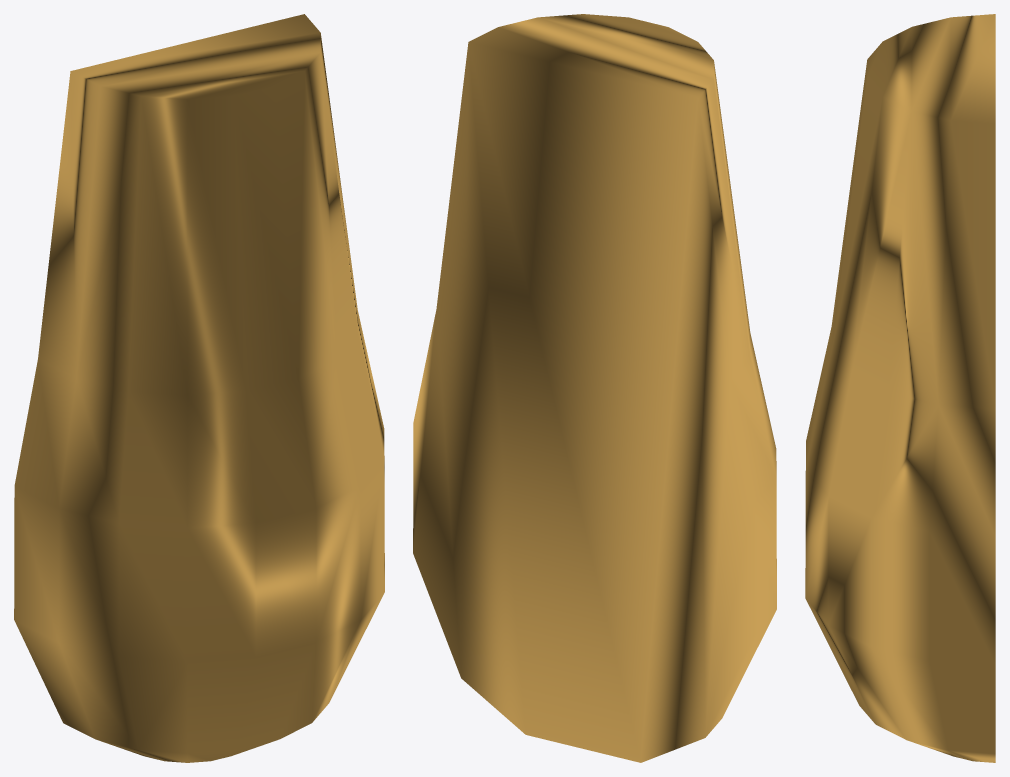
The model's file is foot.dae.
3 renders of one model, left to right at view 1: azimuth 30°, elevation 25°; view 2: azimuth 150°, elevation 25°; view 3: azimuth 270°, elevation 25°, orthographic. The views are drawn at different scales.
Parts seen in each view (by area): view 1: Node_000001982B1DFCF0; view 2: Node_000001982B1DFCF0; view 3: Node_000001982B1DFCF0.
Boxes of the visible parts, left/top/right/bottom form: Node_000001982B1DFCF0: left=14, top=14, right=384, bottom=762; Node_000001982B1DFCF0: left=413, top=14, right=776, bottom=762; Node_000001982B1DFCF0: left=805, top=14, right=995, bottom=762.
Size of the model in its own units: 0.1341 by 0.2556 by 0.066.
